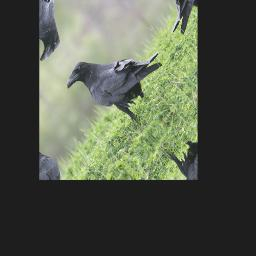Crow: (63, 8, 177, 145)
